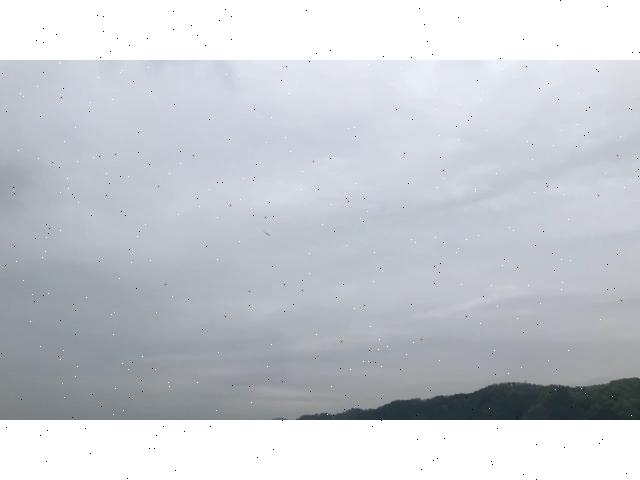Anti-Drone: (258, 226, 278, 241)
